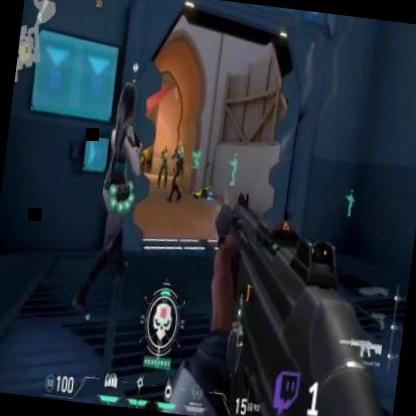enemy: (165, 140, 185, 204), (155, 141, 170, 190), (136, 141, 147, 177)
enemy_head: (176, 141, 183, 152), (162, 142, 168, 152), (141, 141, 145, 148)
